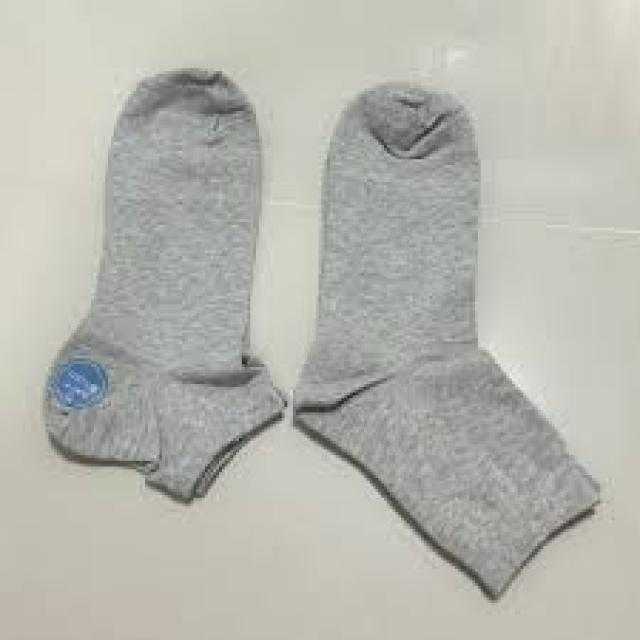sock: (290, 80, 600, 600), (40, 66, 284, 503)
